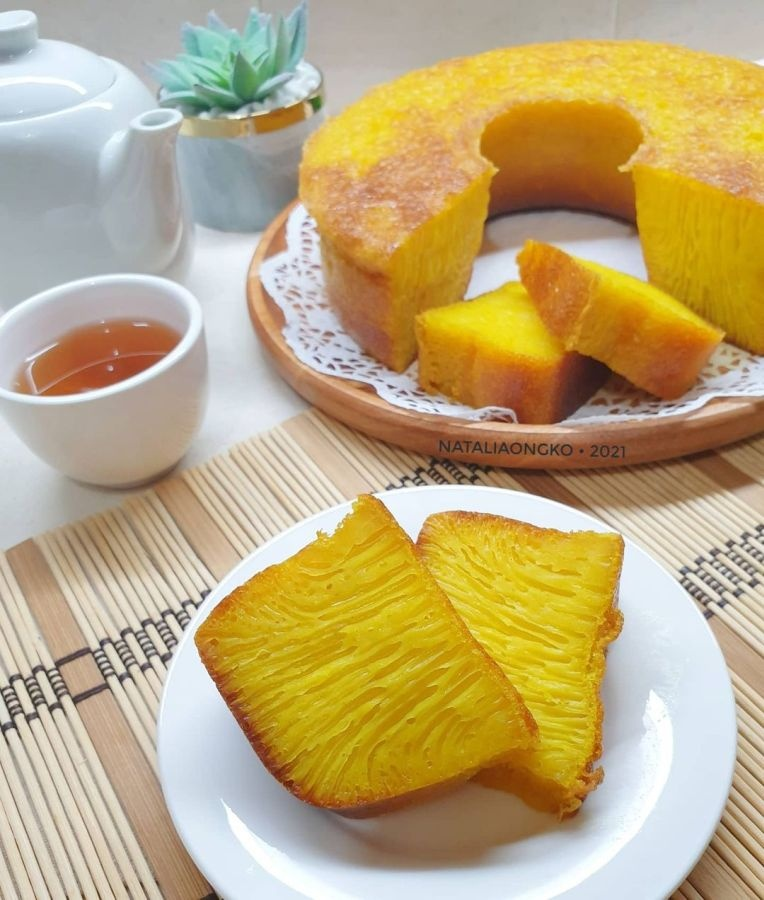bika_ambon: (168, 495, 555, 817)
